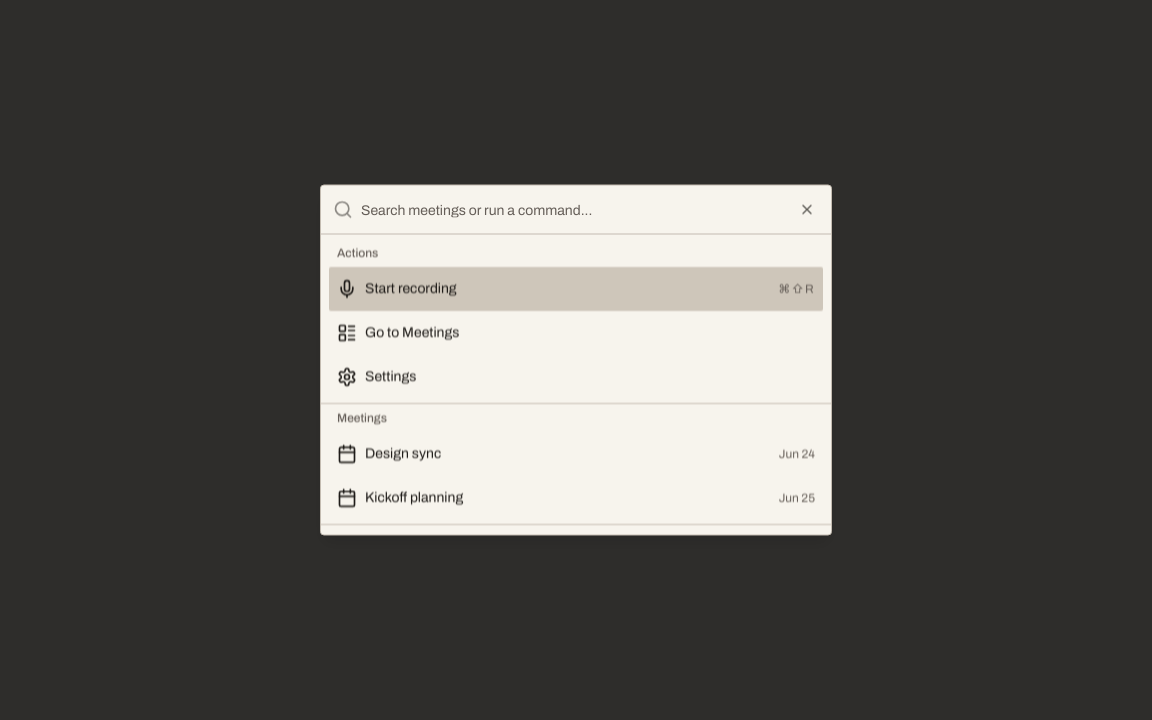
CommandPalette — Ask AI action (specs/0035) › stays visible for a natural-language question that matches nothing else
Expected: the text "Design sync" is shown, left=365, top=446, right=441, bottom=460
In the dropdown with placeholder "Search meetings or run a command...": (590, 210) left=361, top=186, right=819, bottom=234, type "what did we decide about pricing"
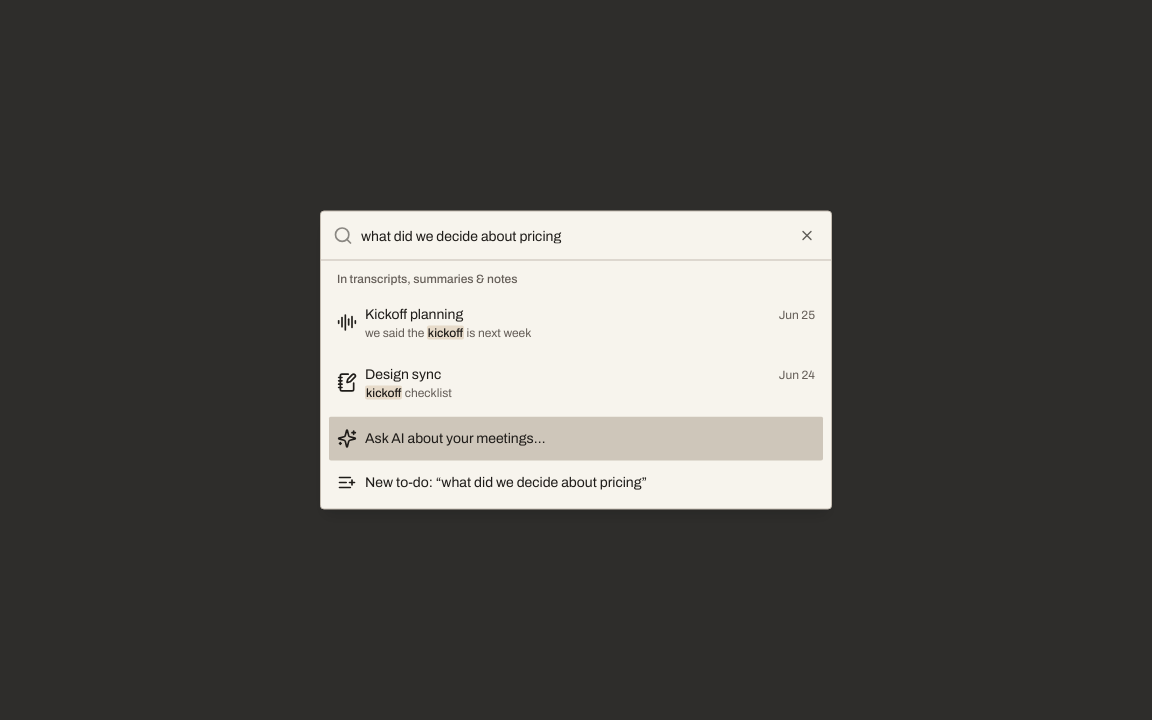
Result: the text "Ask AI about your meetings…" is shown at left=365, top=428, right=546, bottom=448
